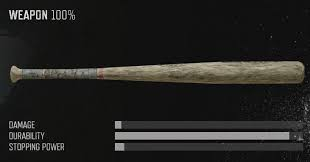baseball bat: (8, 60, 305, 84)
